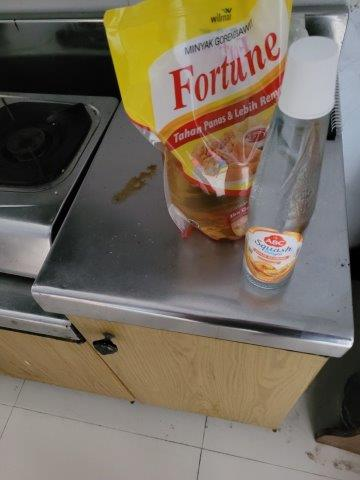botolkaca: (240, 36, 340, 306)
